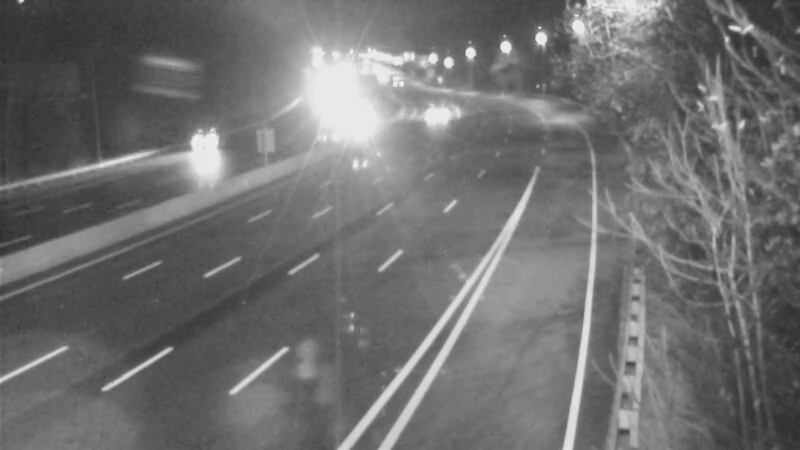vehicle: (374, 60, 424, 110), (406, 90, 456, 140), (178, 117, 228, 167), (335, 97, 385, 147)
